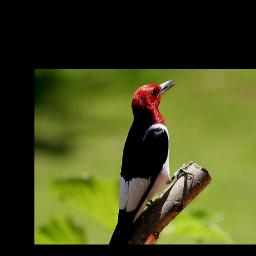Woodpecker: (107, 77, 181, 244)
